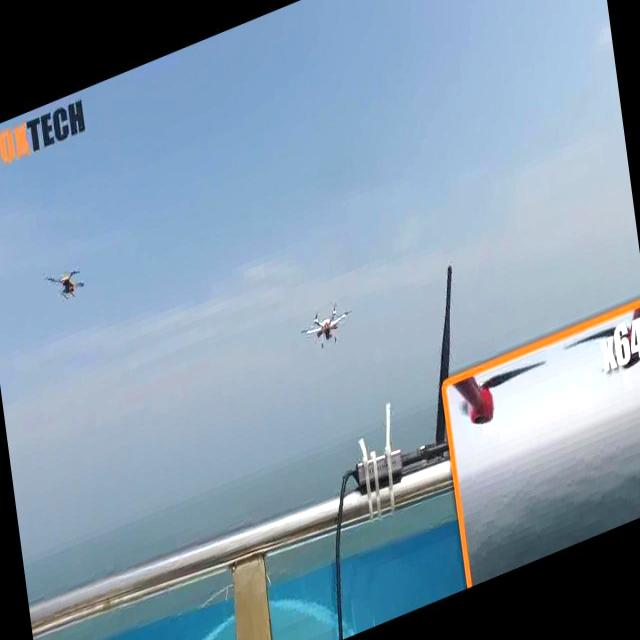drone: (290, 276, 359, 364), (33, 243, 93, 321)
